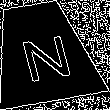N_N: (12, 24, 73, 81)
